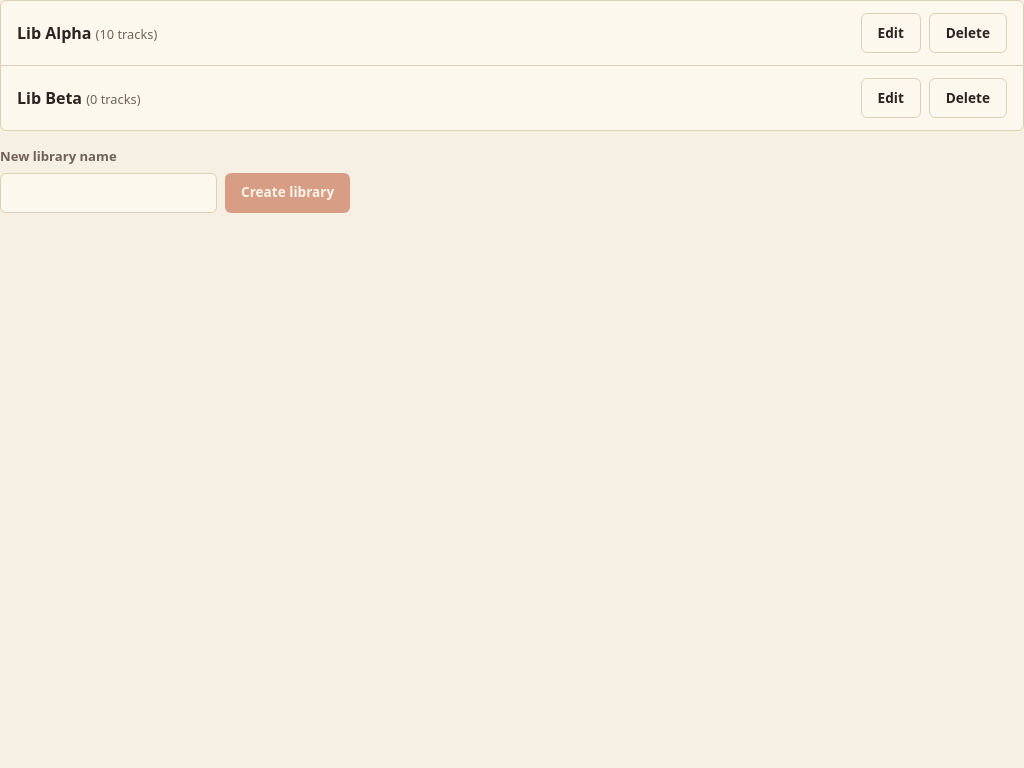
Test: Feature: Manage libraries from the Catalog page's Libraries tab › Scenario: errors are surfaced, not swallowed › a 409 + dependentMediaCount on DELETE toasts the count and keeps the row
What coordinates should you click on to do the following:
click the button with aria-label "delete lib alpha"
I would click on:
 (968, 33)
Its box is [929,13,1007,53].
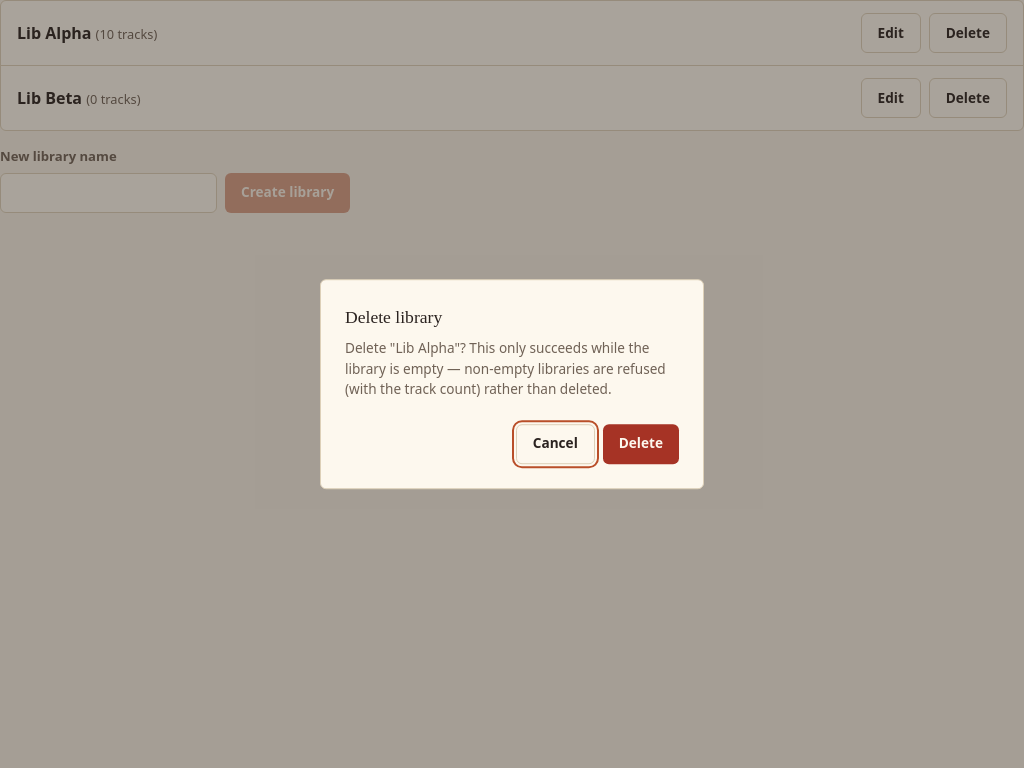
What coordinates should you click on to do the following:
click the button "Delete"
I would click on:
 (641, 444)
Its box is [603,424,679,464].
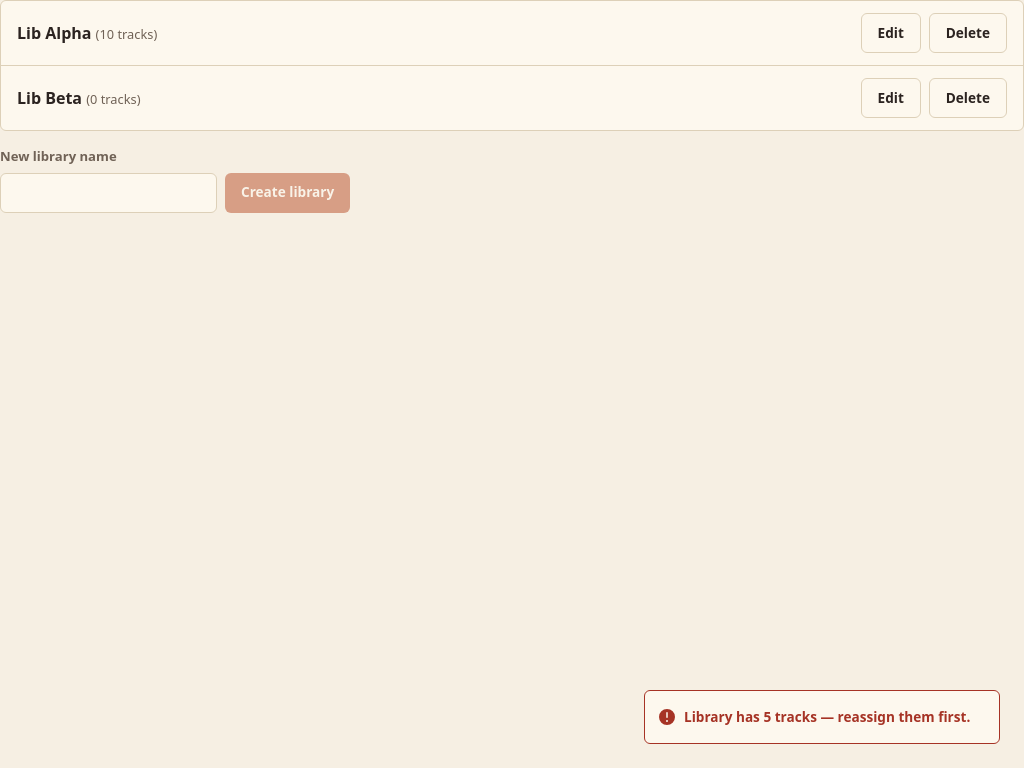
Expected: the text "Lib Alpha" is shown, [17,22,91,44]
Expected: the text "Library has 5 tracks — reassign them first." is shown, [684,707,970,727]
